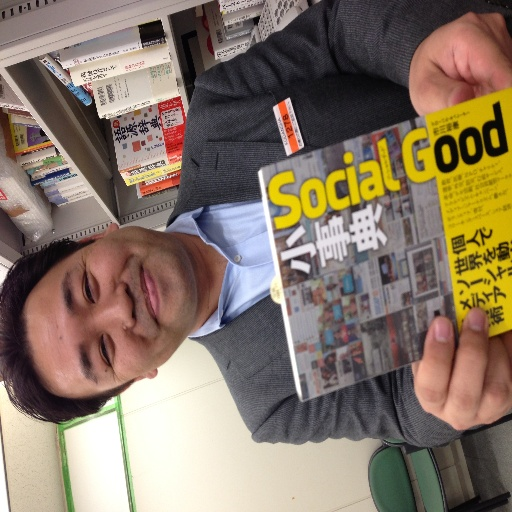hand: (411, 304, 511, 433), (400, 9, 504, 111)
